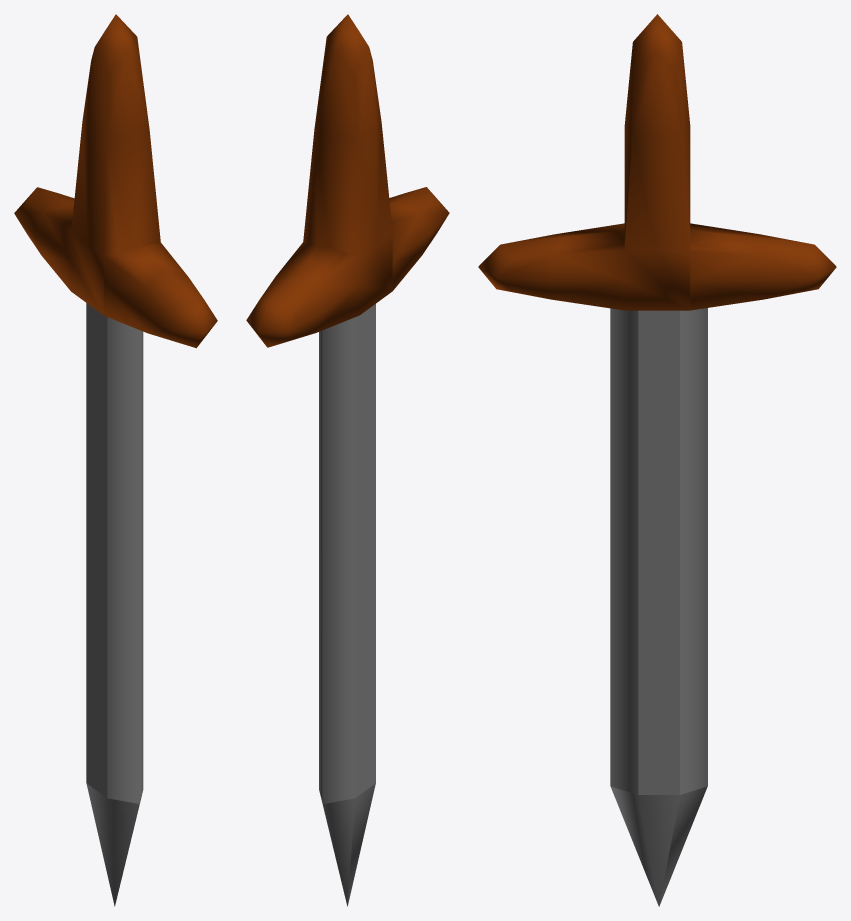
File: TextureZwaard.obj
The picture shows the model from 3 angles, left to right: view 1: azimuth 30°, elevation 25°; view 2: azimuth 150°, elevation 25°; view 3: azimuth 270°, elevation 25°; orthographic projection.
Visible parts, largest first — view 1: polySurface10; view 2: polySurface10; view 3: polySurface10.
Boxes of the visible parts, x1,y1,x2,y2 form: polySurface10: [14, 14, 217, 906]; polySurface10: [246, 14, 449, 906]; polySurface10: [478, 14, 836, 906].
Bounding box in the file's own units: 0.3935 × 5.91 × 2.15.
Materials: 2 (2 with a texture image).
